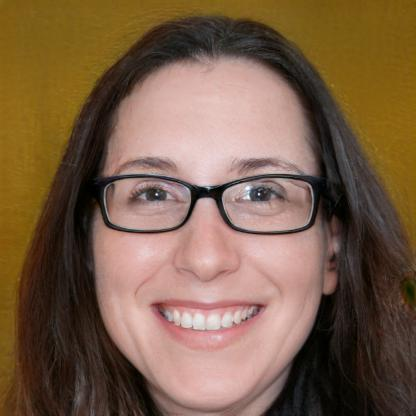glasses: (97, 169, 316, 241)
